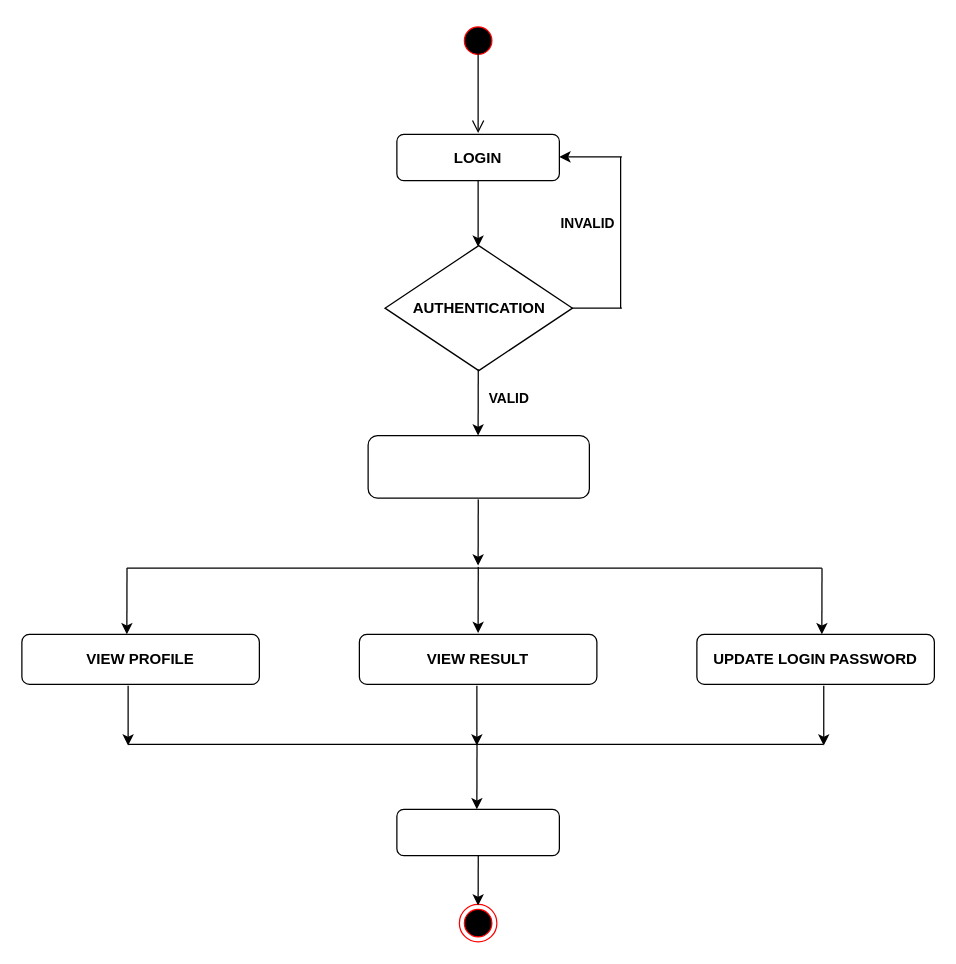
Image size: 956x964. Some labels were removed from this diagram. The shapes that lost their labels are listed below. From the top down, each one's centre as x and y in pixels, then its label:
point (478, 466): STUDENT DASHBOARD
point (477, 832): LOGOUT
